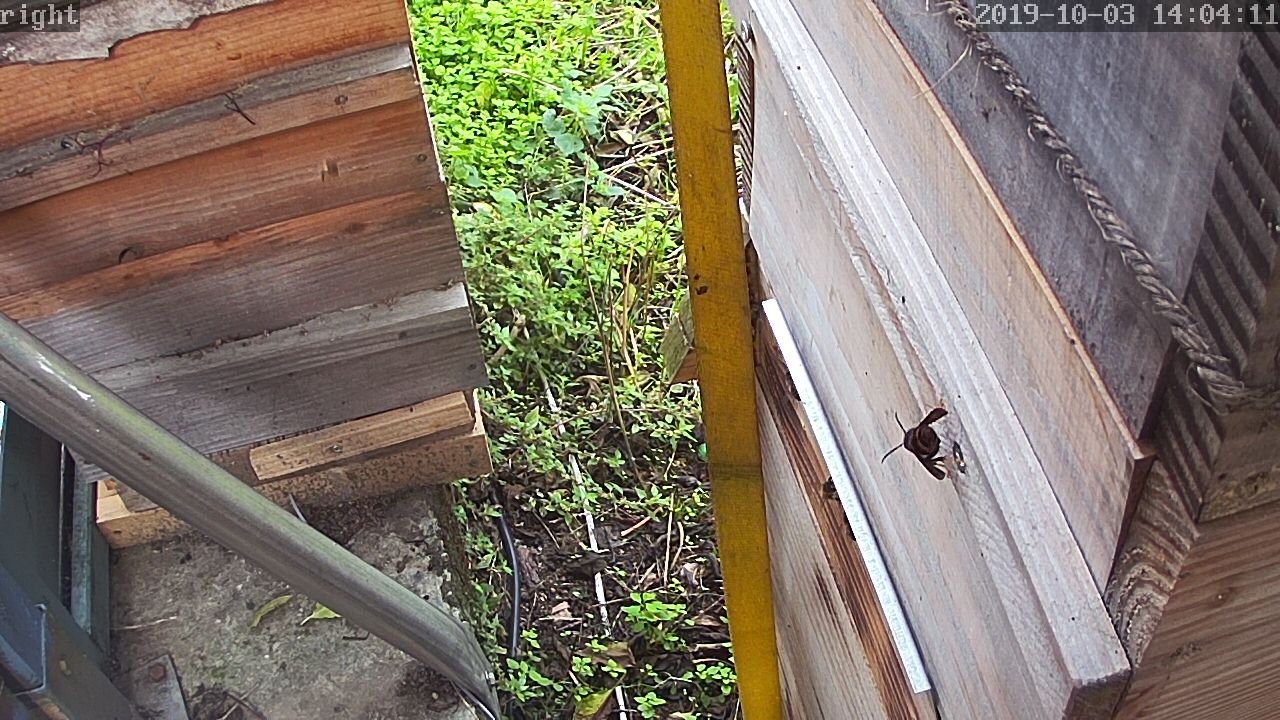bee: (812, 470, 852, 510)
hornet: (888, 407, 962, 488)
